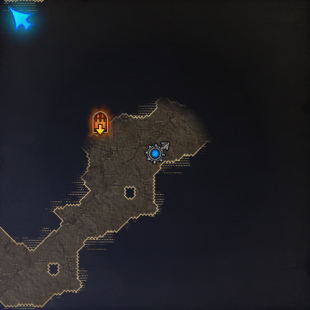Exit: (91, 109, 112, 138)
